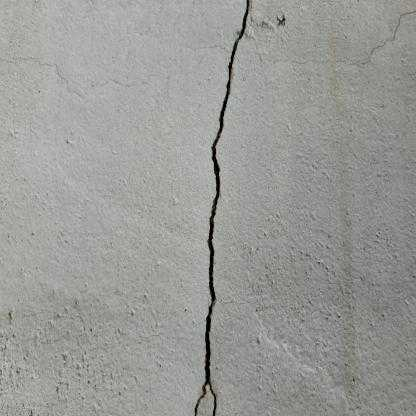crack: (193, 0, 250, 416)
